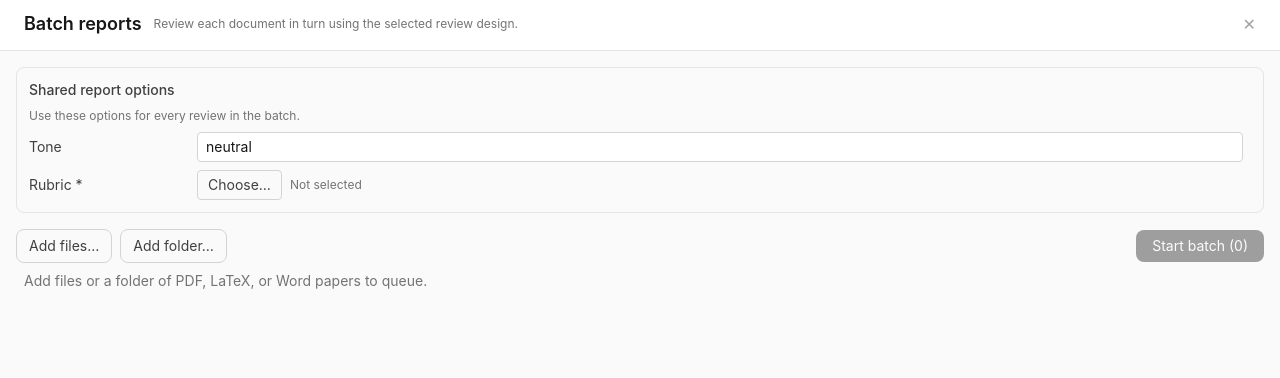
Test: BatchPanel profile semantics › rejects a stale profile schema immediately before starting
expect the field labelled "Tone" is shown: met, box x1=197 y1=132 x2=1243 y2=162
Step 1. Click the button "Choose…" → coordinates (240, 185), box x1=197 y1=170 x2=282 y2=200
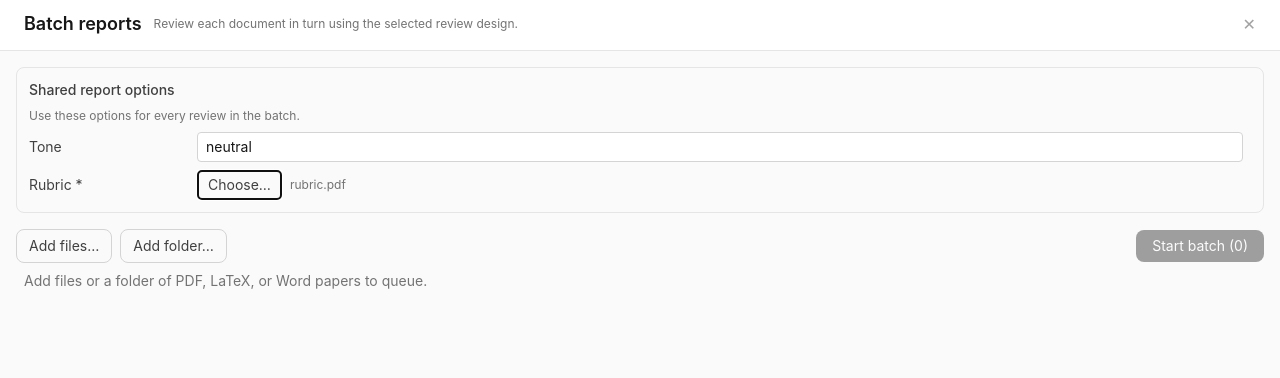
Step 2. Click the button "Add files…" → coordinates (64, 246), box x1=16 y1=229 x2=112 y2=263
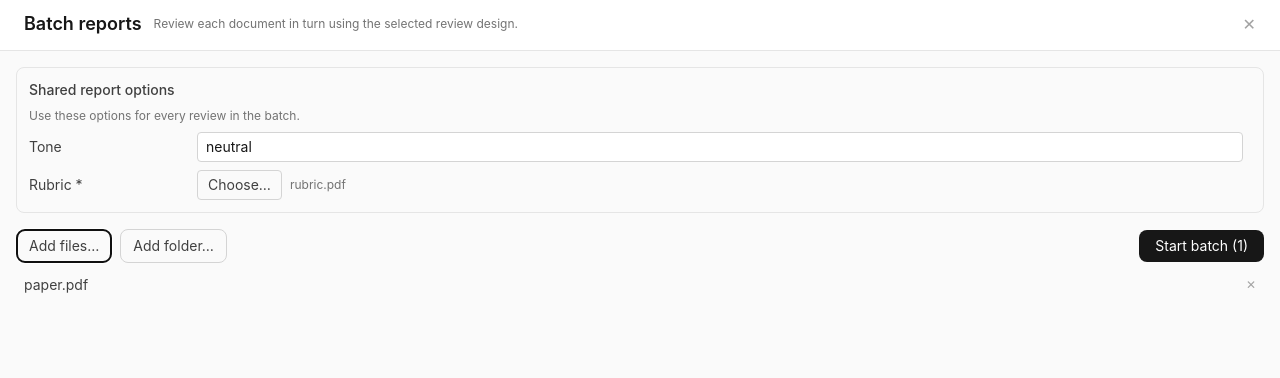
Step 3. Click the button "Start batch (1)" → coordinates (1202, 246), box x1=1139 y1=230 x2=1264 y2=262
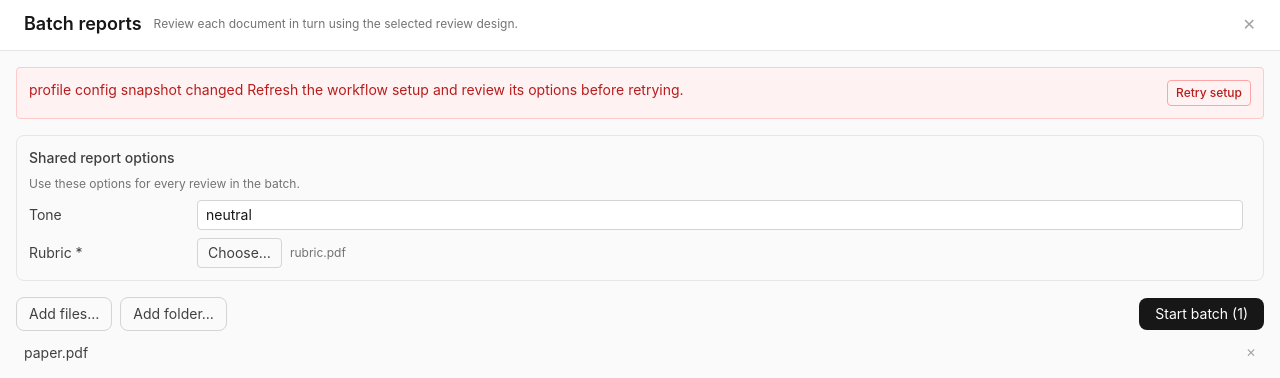
expect the message shows "profile config snapshot changed": met, box x1=29 y1=81 x2=684 y2=98
expect the message shows "review its options": met, box x1=29 y1=81 x2=684 y2=98
